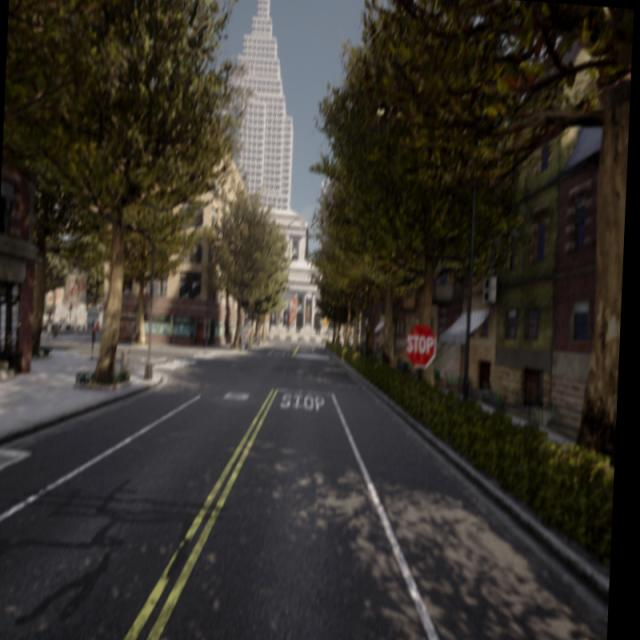stop sign: (402, 320, 438, 370)
